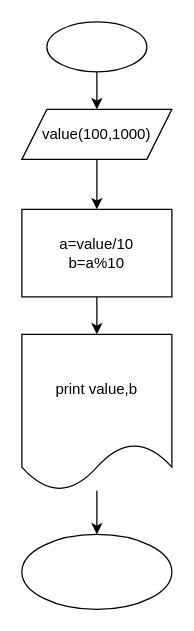
The diagram is 194 pixels wide and 631 high, and some of its shapes have lost their labels. The shapes that lost their labels are listed below. From the top down, each one's centre as x and y in pixels, then its label:
At point (96, 46): "start".
At point (96, 571): "end".
